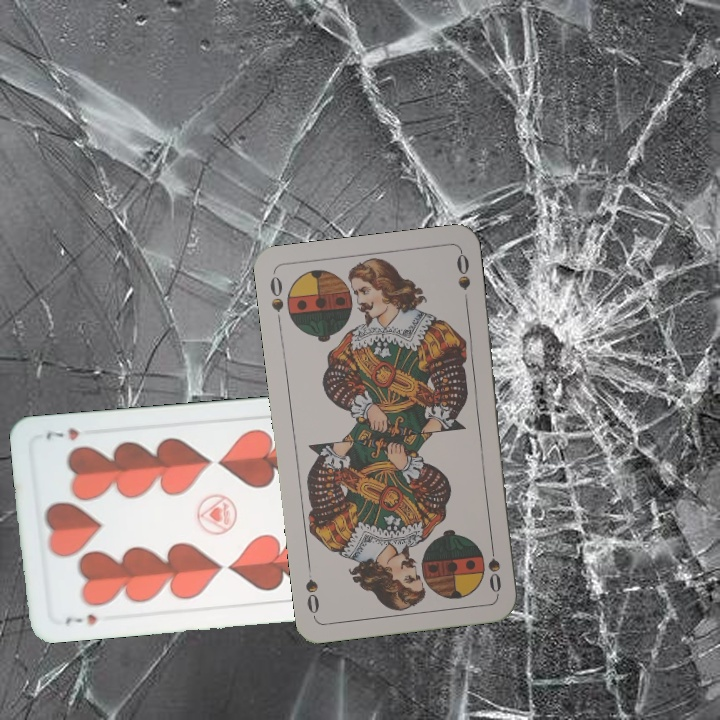H7: (61, 610, 100, 628)
SO: (266, 271, 287, 330), (484, 537, 504, 595)
